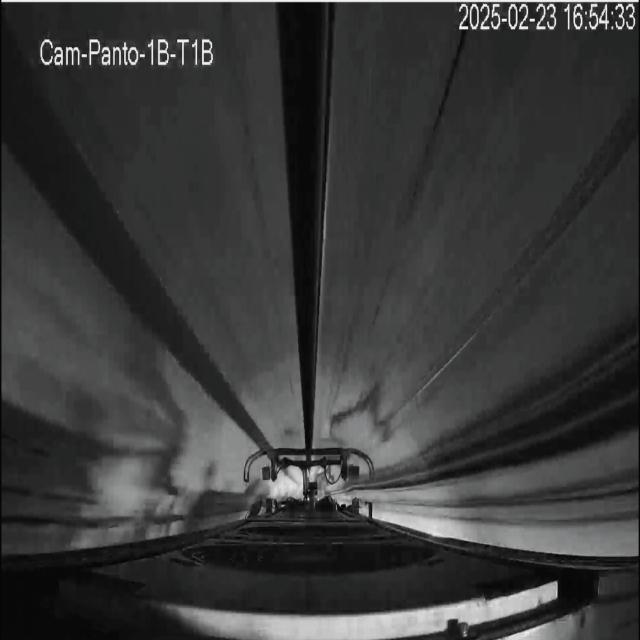Camera Stamp: (35, 28, 219, 71)
Date Stamp: (459, 3, 637, 33)
No - Spark: (131, 456, 527, 631), (306, 396, 418, 500), (85, 434, 183, 542), (244, 444, 374, 510), (272, 356, 330, 478)
